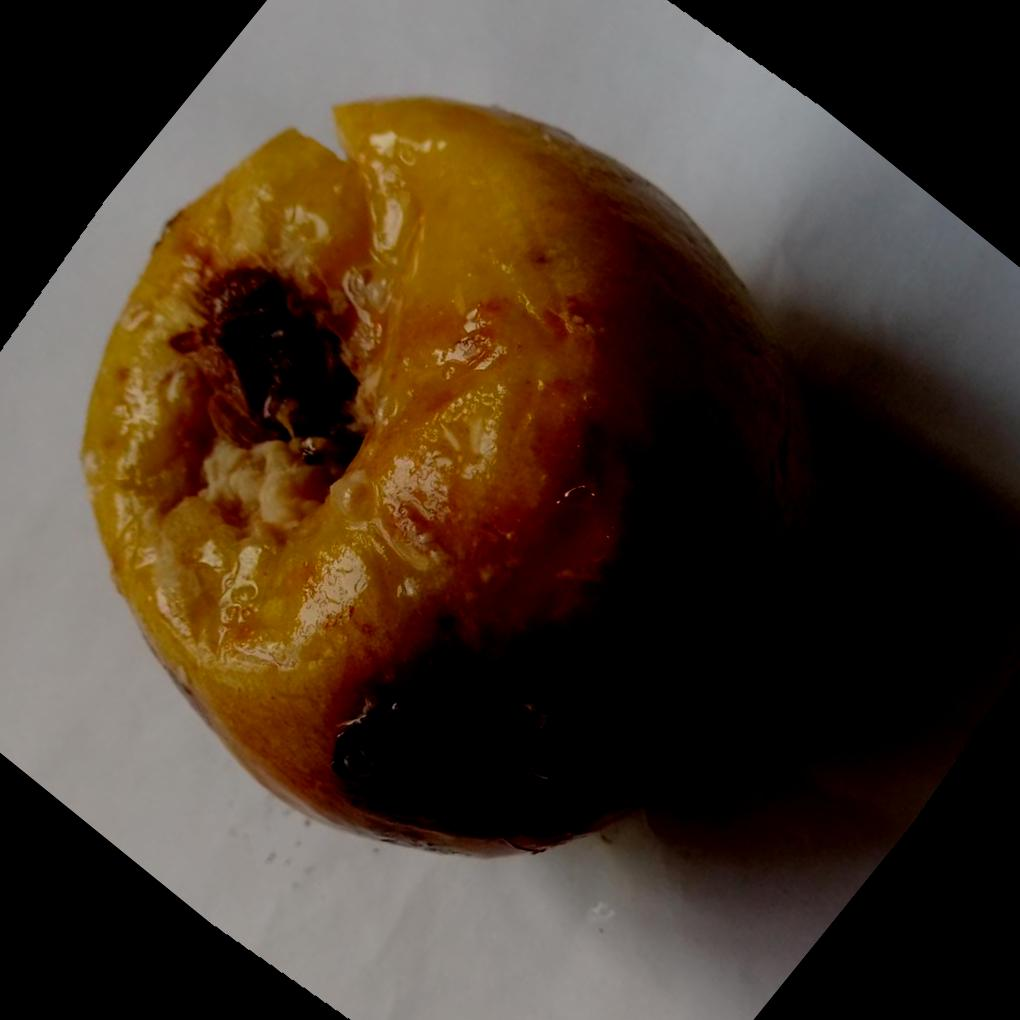FreshOrange: (79, 95, 839, 864)
